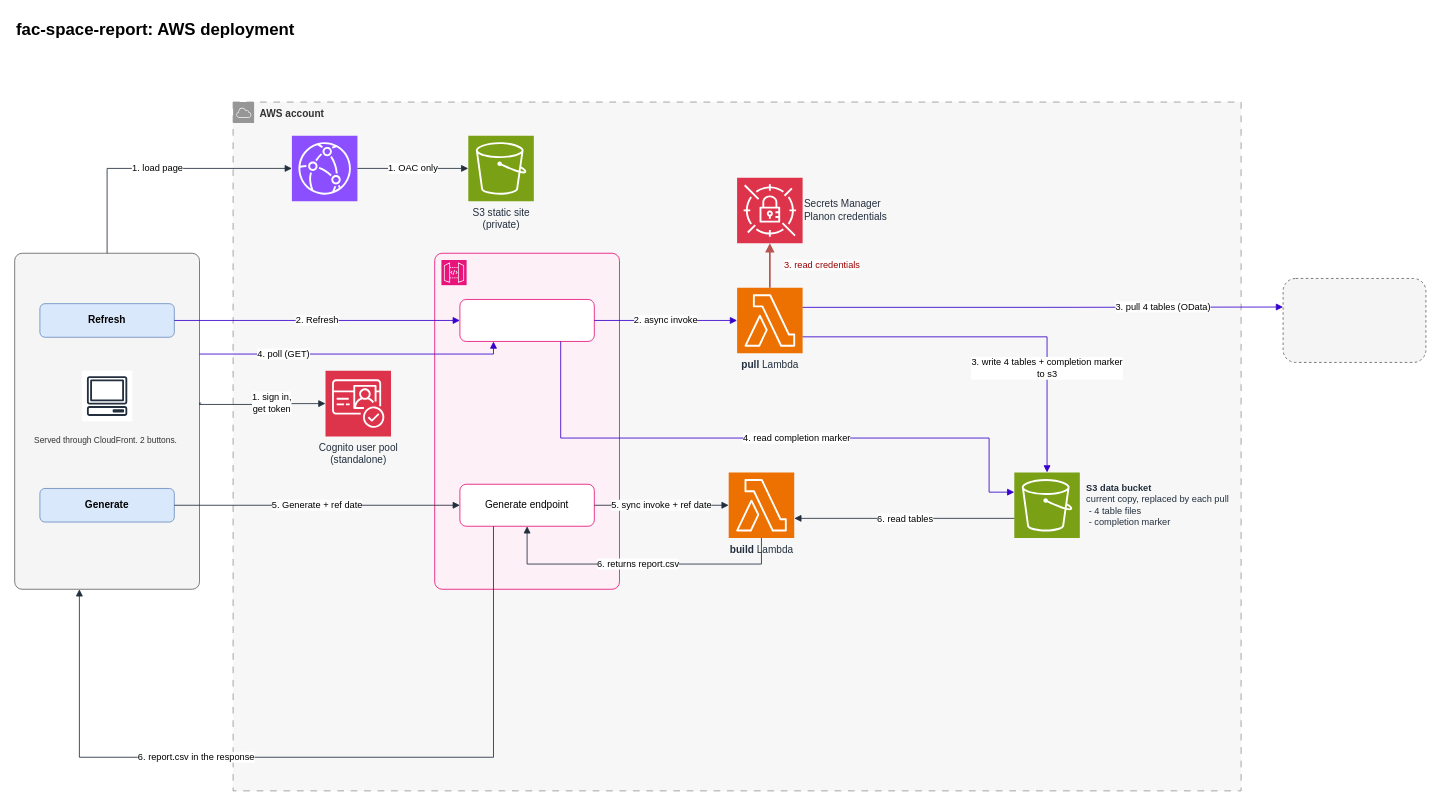
Image size: 1441x806. Some labels were removed from this diagram. Each missing label, with the box of its shape:
API Gateway REST API: (434, 252, 620, 589)
CloudFront: (291, 135, 357, 201)
Owner's browser: (14, 252, 200, 589)
Planon OData endpoint external, outside AWS: (1282, 278, 1426, 362)
Refresh endpoint: (459, 299, 594, 341)
